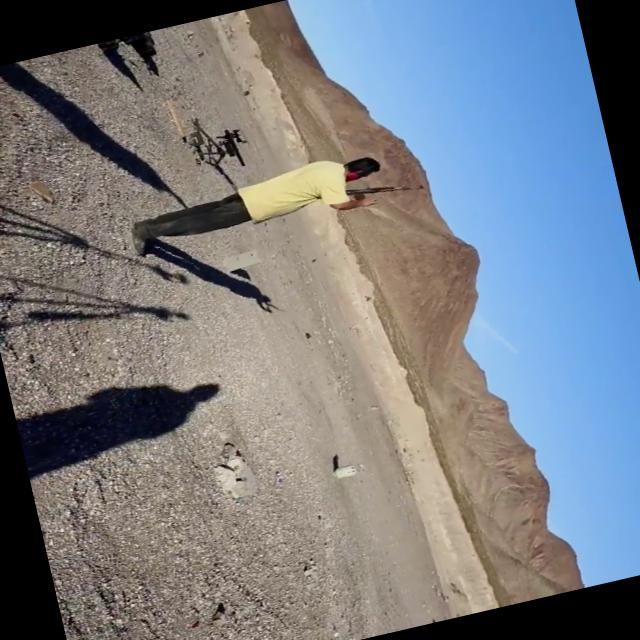long weapon: (326, 160, 450, 222), (189, 110, 268, 182)
